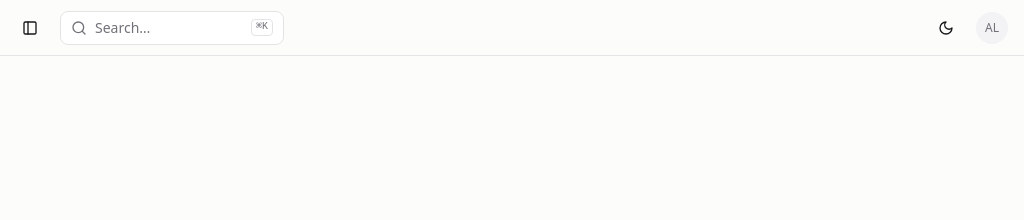
Test case: <Topbar> › shows the signed-in user in the account menu
This screenshot has width=1024, height=220.
Click the button with aria-label "Account menu": coordinates (992, 28) [972,8,1012,48]
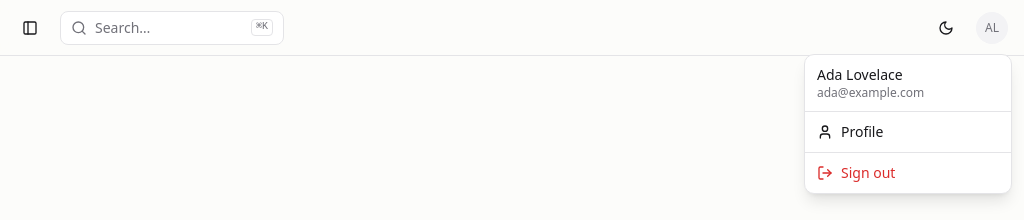
expect the text "Ada Lovelace" is shown: met, box [817,65,903,84]
expect the text "ada@example.com" is shown: met, box [817,84,924,101]
